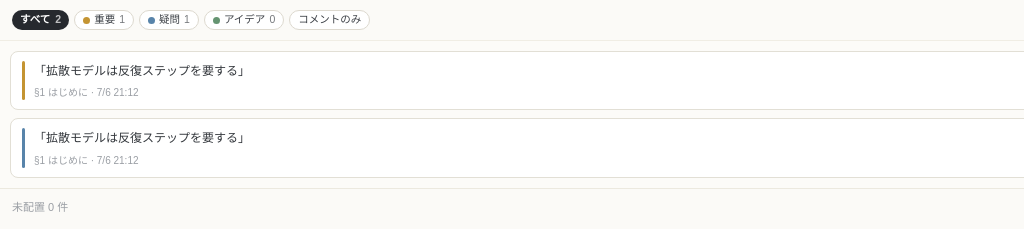
Test: AnnotationListPanel (VT-VIEW-08) › filtering to 重要 shows only important-colored cards
The image size is (1024, 229).
Expected: the text "「拡散モデルは反復ステップを要する」" is shown 2 times, 34,64 -> 250,78; 34,131 -> 250,145
Click the text "重要". click: {"x": 105, "y": 20}
box: 94,12 -> 115,28
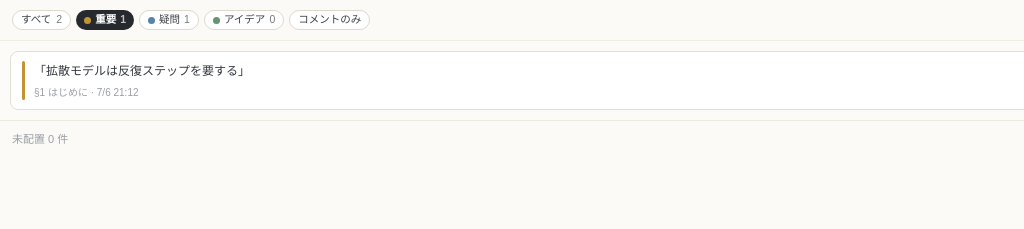
Expected: the text "「拡散モデルは反復ステップを要する」" is shown once, 34,64 -> 250,78
